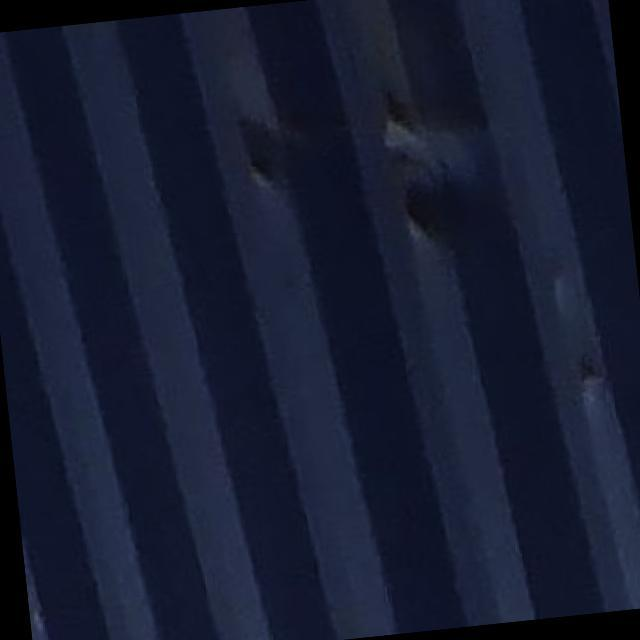dent: (337, 91, 521, 252)
